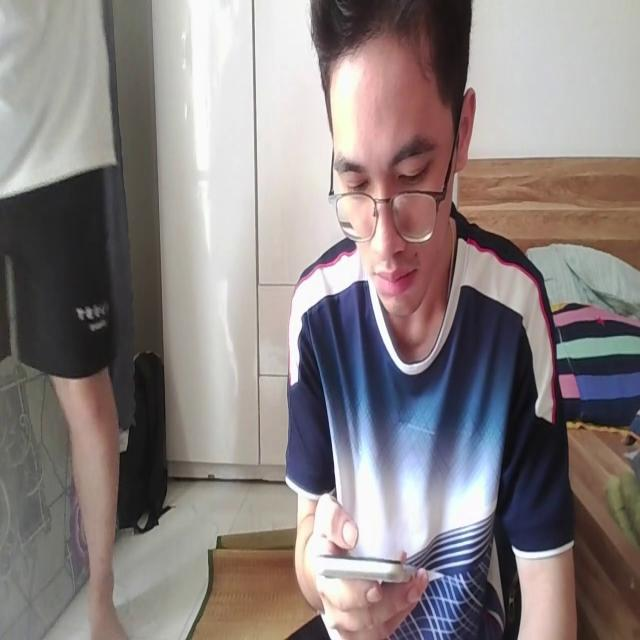extra_person: (0, 0, 147, 640)
student: (284, 0, 582, 640)
